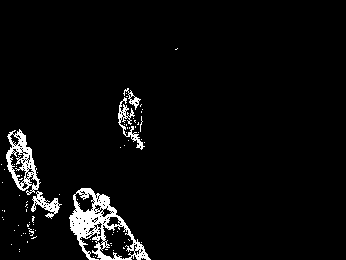person: (5, 130, 59, 241), (69, 188, 151, 260), (118, 87, 145, 150)
